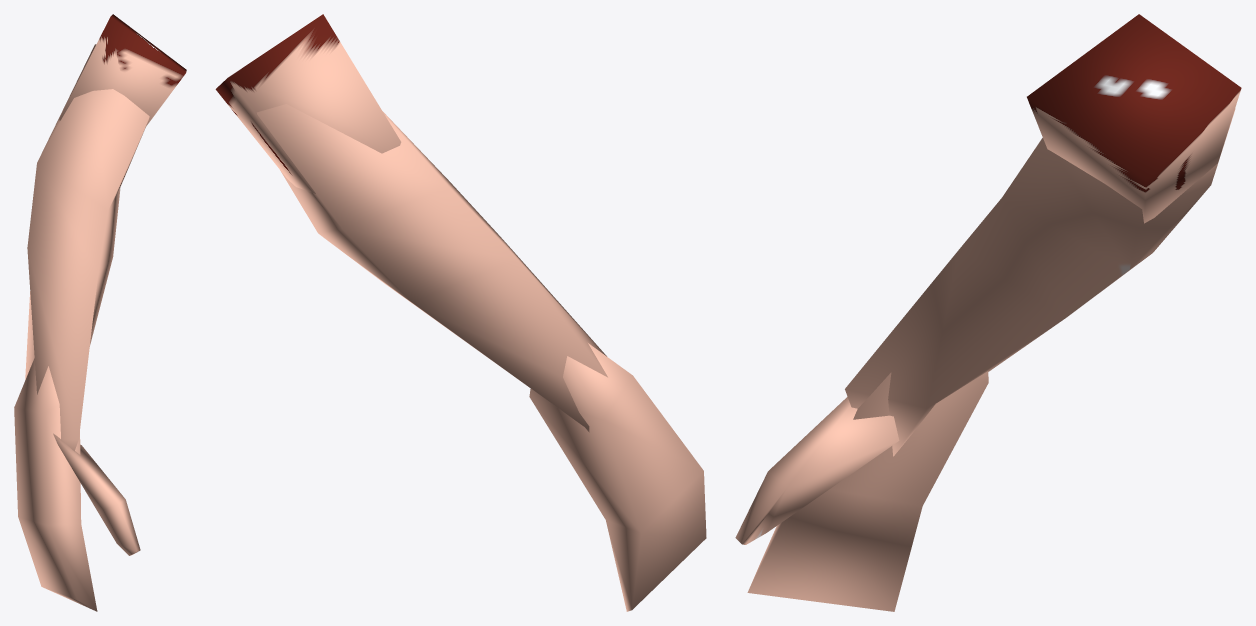
The model's file is severedarm.fbx.
The picture shows the model from 3 angles, left to right: view 1: azimuth 30°, elevation 25°; view 2: azimuth 150°, elevation 25°; view 3: azimuth 270°, elevation 25°; orthographic projection. The views are drawn at different scales.
Visible parts, largest first — view 1: PS1_mesh; view 2: PS1_mesh; view 3: PS1_mesh.
Part boxes in pixels (x1=…): PS1_mesh: x1=14, y1=14, x2=186, y2=611; PS1_mesh: x1=215, y1=14, x2=706, y2=611; PS1_mesh: x1=735, y1=14, x2=1241, y2=611.
Size of the model in its own units: 114 by 204 by 133.
1 material, 1 textured.
